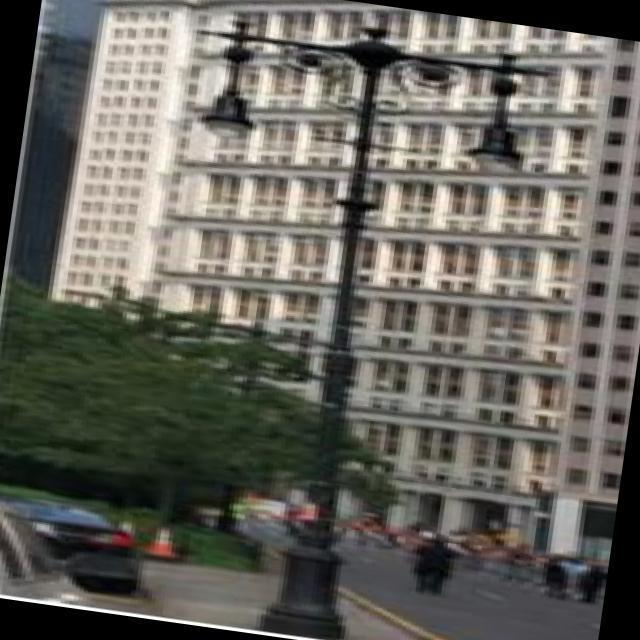off: (460, 26, 544, 188), (190, 16, 270, 178)
